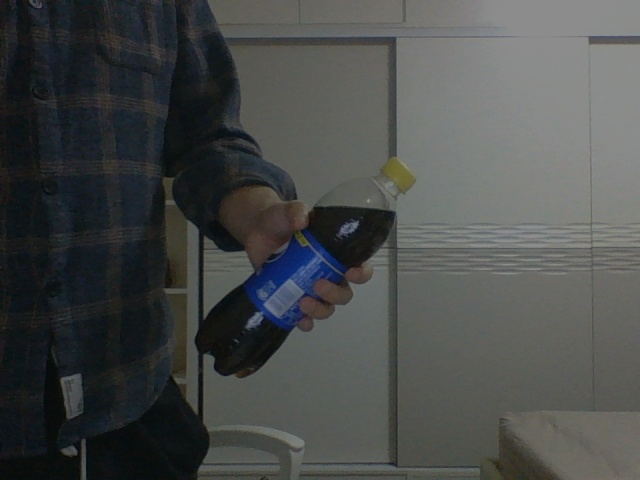Cola: (195, 157, 419, 377)
